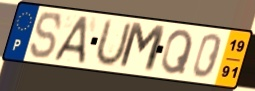0: (191, 32, 224, 80)
A: (51, 16, 91, 65)
M: (116, 20, 169, 75)
Q: (159, 28, 195, 76)
S: (28, 10, 64, 60)
U: (92, 18, 134, 69)
